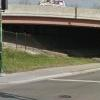Bridge: (4, 3, 99, 46)
